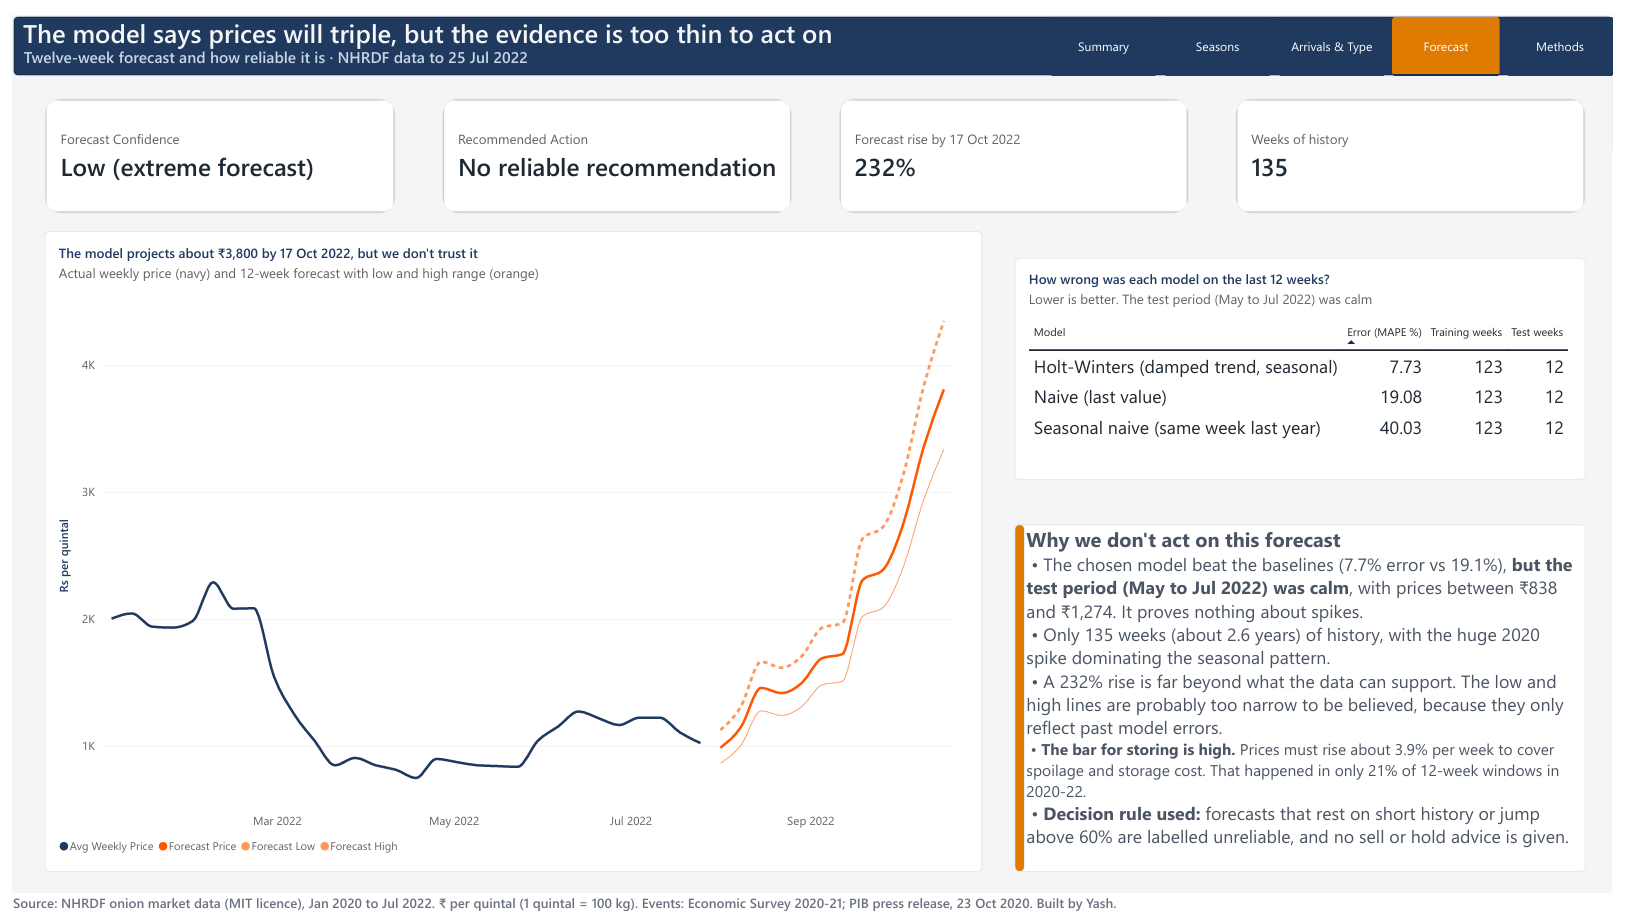

Layout of this report page (visuals, bound fields, positions):
{"tool":"powerbi","page":{"name":"Forecast","canvas":[1920,1080],"ordinal":3},"visuals":[{"type":"lineChart","title":"The model projects about ₹3,800 by 17 Oct 2022, but we don''t trust it","fields":{"Category":["dim_date.week_start"],"Y":["Measures (2).Avg Weekly Price","Measures (2).Forecast Price","Measures (2).Forecast Low","Measures (2).Forecast High"]},"box":[38.4,258.1,1125,769.2],"z":0},{"type":"cardVisual","fields":{"Data":["Measures (2).Recommended Action"]},"box":[514.5,99.4,420.4,137.8],"z":1000},{"type":"tableEx","title":"How wrong was each model on the last 12 weeks?","fields":{"Values":["model_backtest.model","model_backtest.mape_pct","model_backtest.train_weeks","model_backtest.holdout_weeks"]},"box":[1201.7,290.4,685.5,266.9],"z":2000},{"type":"shape","box":[0,0,1920.4,71.5],"z":3000},{"type":"textbox","title":"Source: NHRDF onion market data (MIT licence), Jan 2020 to Jul 2022. ₹ per quintal (1 quintal = 100 kg). Events: Economic Survey 2020-21; PIB press release, 23 Oct 2020. Built by Yash.","box":[0,1053.5,1920.4,26.2],"z":4000},{"type":"textbox","title":"The model says prices will triple, but the evidence is too thin to act on","box":[0,0,1214,47.1],"z":5000},{"type":"textbox","title":"Twelve-week forecast and how reliable it is · NHRDF data to 25 Jul 2022","box":[0.8,37.3,1034.3,34.9],"z":6000},{"type":"pageNavigator","box":[1244.4,0.7,676.4,71.3],"z":7000},{"type":"cardVisual","fields":{"Data":["Measures (2).Forecast Confidence"]},"box":[38.4,99.4,420.4,137.8],"z":8000},{"type":"cardVisual","fields":{"Data":["Measures (2).Forecast uplift %"]},"box":[990.7,99.4,420.4,137.8],"z":9000},{"type":"cardVisual","fields":{"Data":["Measures (2).History (weeks)"]},"box":[1466.9,99.4,420.4,137.8],"z":10000},{"type":"textbox","box":[1201.7,610.5,685.5,416.9],"z":11000},{"type":"shape","box":[1201.7,610.5,12.2,416.9],"z":12000}]}

Visuals, with their boxes in screenshot pixels (x1, y1, x2, y2), scaled from the page's 1920x1080 canvas onto the 1626x923 screenshot:
"The model projects about ₹3,800 by 17 Oct 2022, but we don''t trust it" lineChart: [x1=33, y1=221, x2=985, y2=878]
cardVisual - Measures (2).Recommended Action: [x1=436, y1=85, x2=792, y2=203]
"How wrong was each model on the last 12 weeks?" tableEx: [x1=1018, y1=248, x2=1598, y2=476]
shape: [x1=0, y1=0, x2=1625, y2=61]
"Source: NHRDF onion market data (MIT licence), Jan 2020 to Jul 2022. ₹ per quintal (1 quintal = 100 kg). Events: Economic Survey 2020-21; PIB press release, 23 Oct 2020. Built by Yash." textbox: [x1=0, y1=900, x2=1625, y2=922]
"The model says prices will triple, but the evidence is too thin to act on" textbox: [x1=0, y1=0, x2=1028, y2=40]
"Twelve-week forecast and how reliable it is · NHRDF data to 25 Jul 2022" textbox: [x1=1, y1=32, x2=877, y2=62]
pageNavigator: [x1=1054, y1=1, x2=1625, y2=62]
cardVisual - Measures (2).Forecast Confidence: [x1=33, y1=85, x2=389, y2=203]
cardVisual - Measures (2).Forecast uplift %: [x1=839, y1=85, x2=1195, y2=203]
cardVisual - Measures (2).History (weeks): [x1=1242, y1=85, x2=1598, y2=203]
textbox: [x1=1018, y1=522, x2=1598, y2=878]
shape: [x1=1018, y1=522, x2=1028, y2=878]
